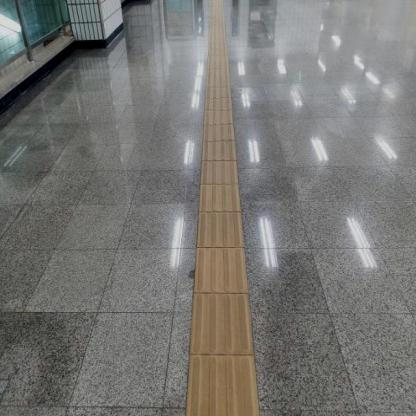podotacti: (185, 0, 263, 415)
